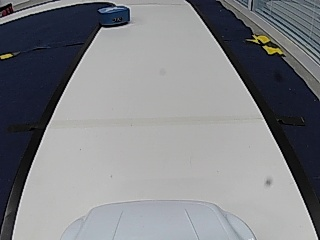prop: (99, 6, 129, 27)
